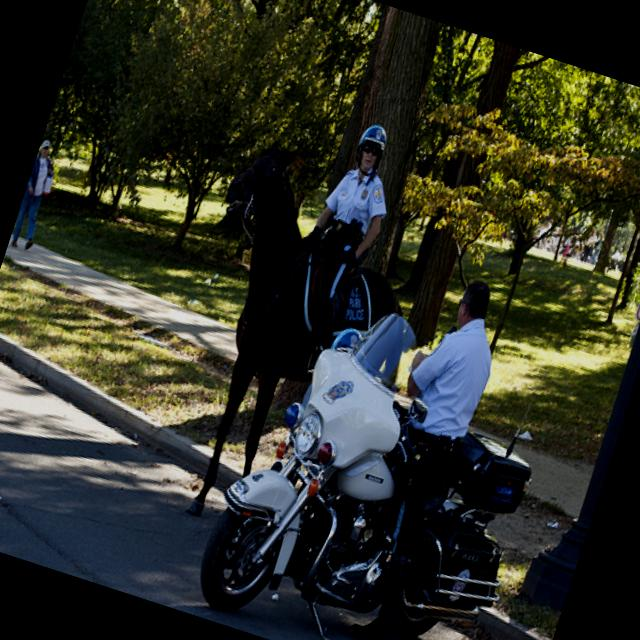Vehicle: (188, 284, 573, 640)
